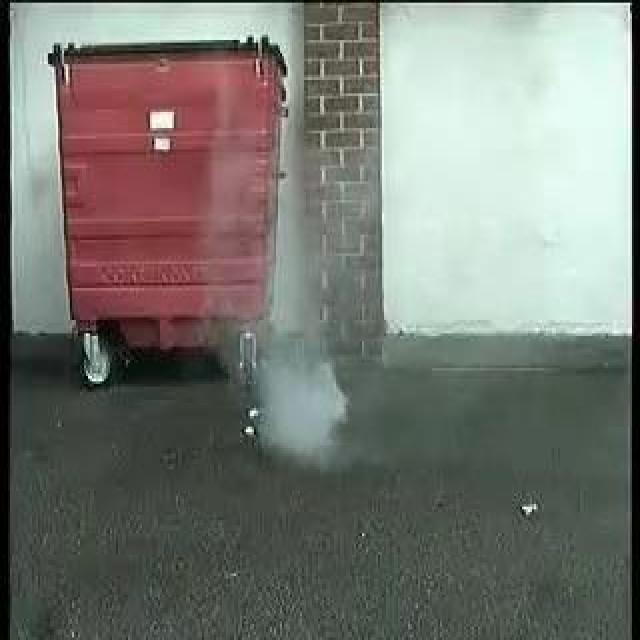Smoke: (257, 259, 353, 461)
